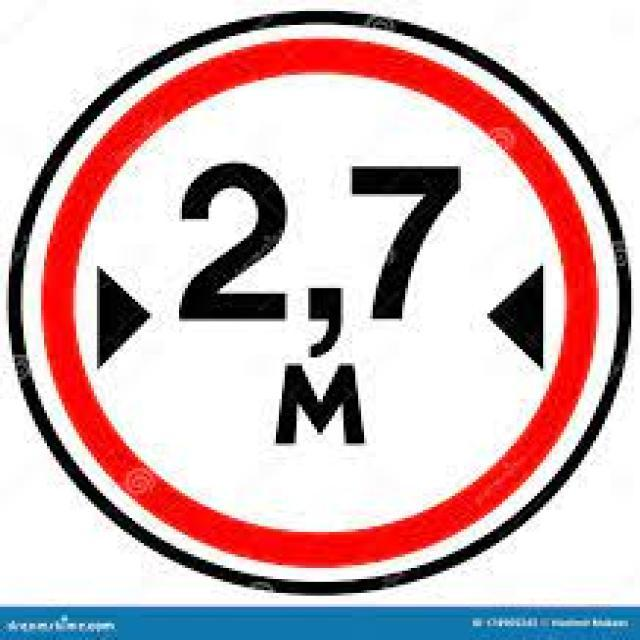width limit: (39, 36, 602, 571)
